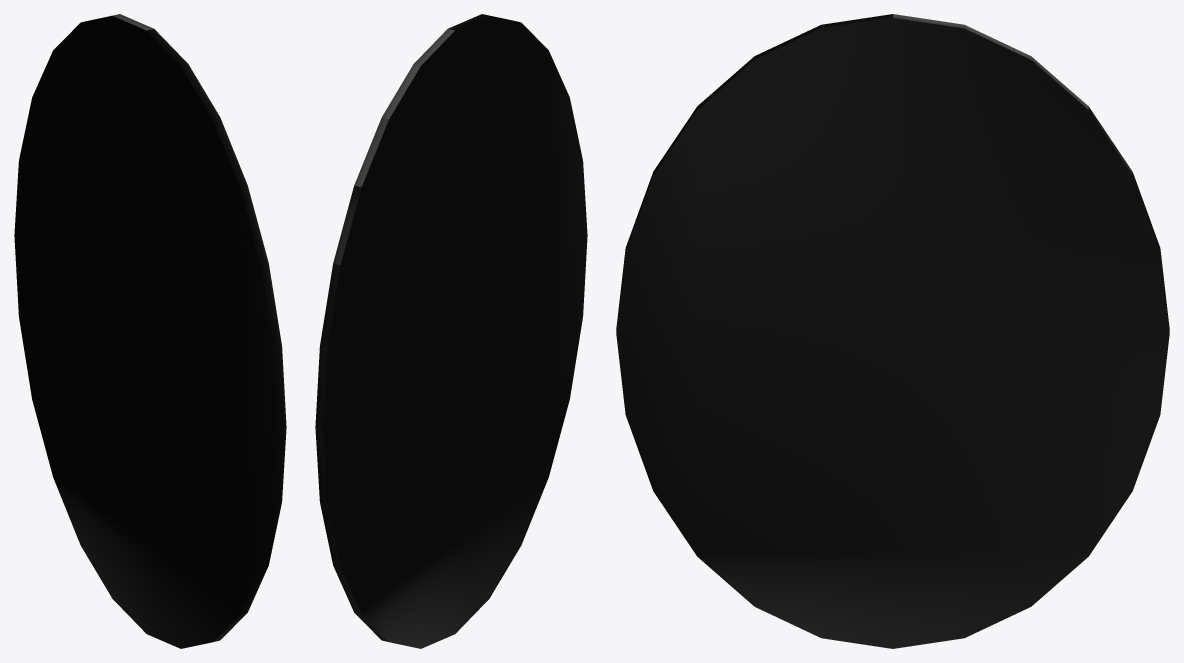
The model's file is original-34.obj.
3 views of the same model, side by side, from view 1: azimuth 30°, elevation 25°; view 2: azimuth 150°, elevation 25°; view 3: azimuth 270°, elevation 25° (orthographic). The views are drawn at different scales.
Parts seen in each view (by area): view 1: Component_11_7/Component_11/mesh3/mesh3-geometry#mesh3-geometry; view 2: Component_11_7/Component_11/mesh3/mesh3-geometry#mesh3-geometry; view 3: Component_11_7/Component_11/mesh3/mesh3-geometry#mesh3-geometry.
Boxes of the visible parts, x1,y1,x2,y2 form: Component_11_7/Component_11/mesh3/mesh3-geometry#mesh3-geometry: (14,14,286,648); Component_11_7/Component_11/mesh3/mesh3-geometry#mesh3-geometry: (315,14,587,648); Component_11_7/Component_11/mesh3/mesh3-geometry#mesh3-geometry: (616,14,1169,648).
Bounding box in the file's own units: 5.5e-05 × 0.00423 × 0.00336.
